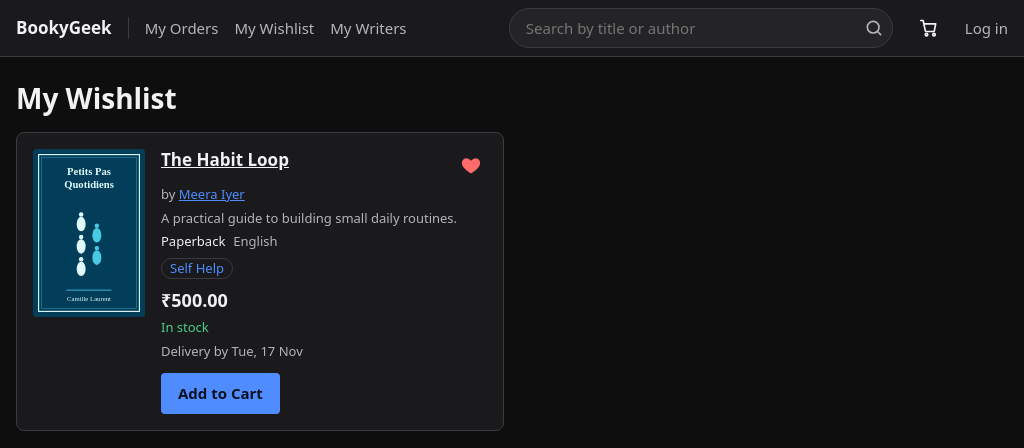
it: WishlistPage › lists the saved books and drops one when its heart is pressed
Expected: the heading "The Habit Loop" is shown, [161,149,289,171]
Click the button named "Remove from Wishlist" at (471, 165), box [455,149,487,181]
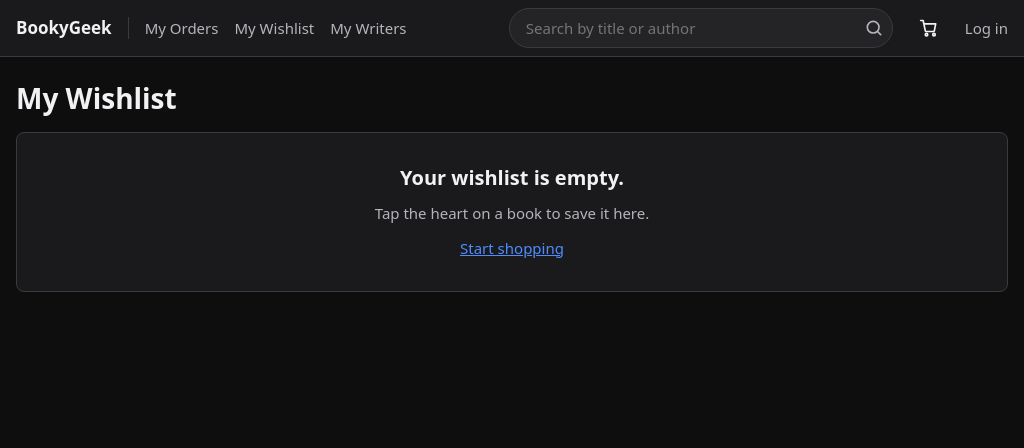
Expected: the link "The Habit Loop" is gone
Expected: the heading "Your wishlist is empty." is shown, [400,164,624,191]
